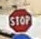stop: (7, 7, 33, 32)
